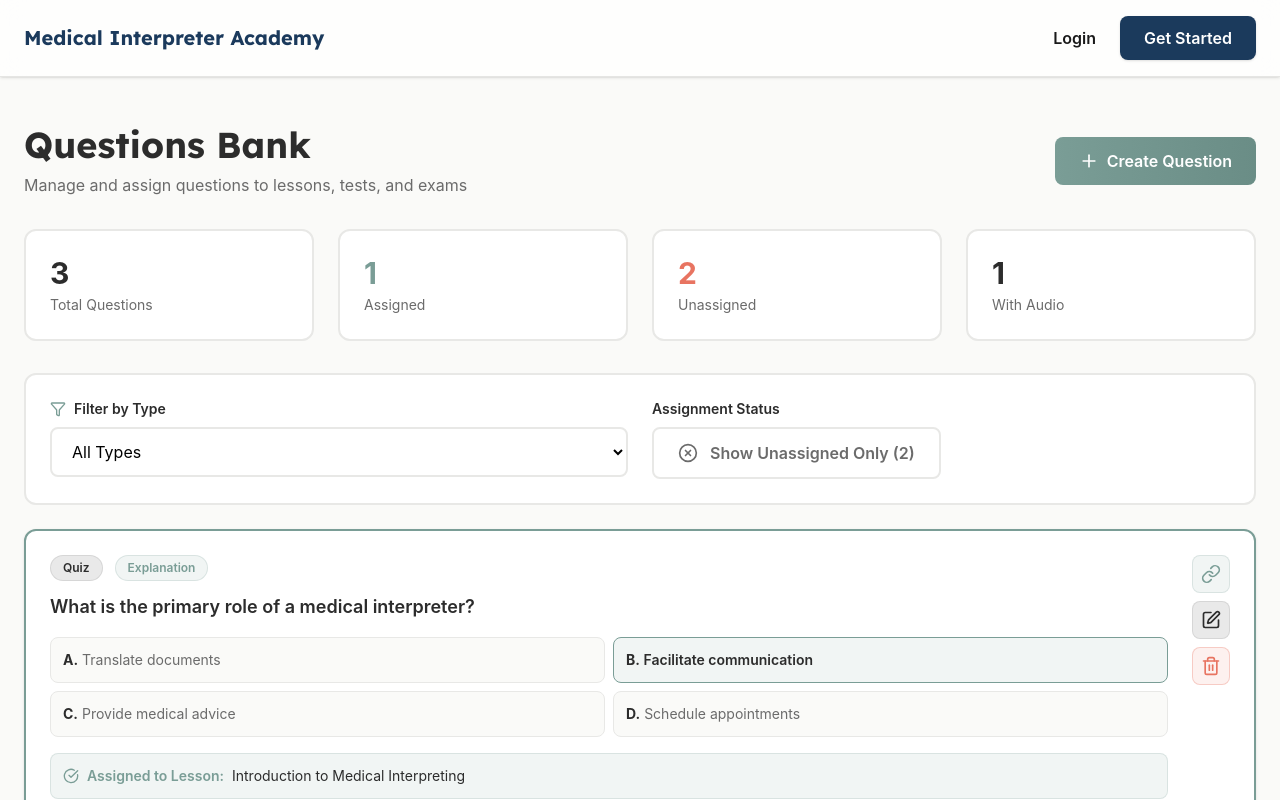
Test: AdminQuestions Page › Assign Question › should open assign modal
Expected: the text "What is the primary role of a medical interpreter?" is shown, [50,596,475,617]
What coordinates should you click on to do the following:
click the button titled "assign question"
I would click on:
 (1211, 574)
Its box is [1192,555,1230,593].
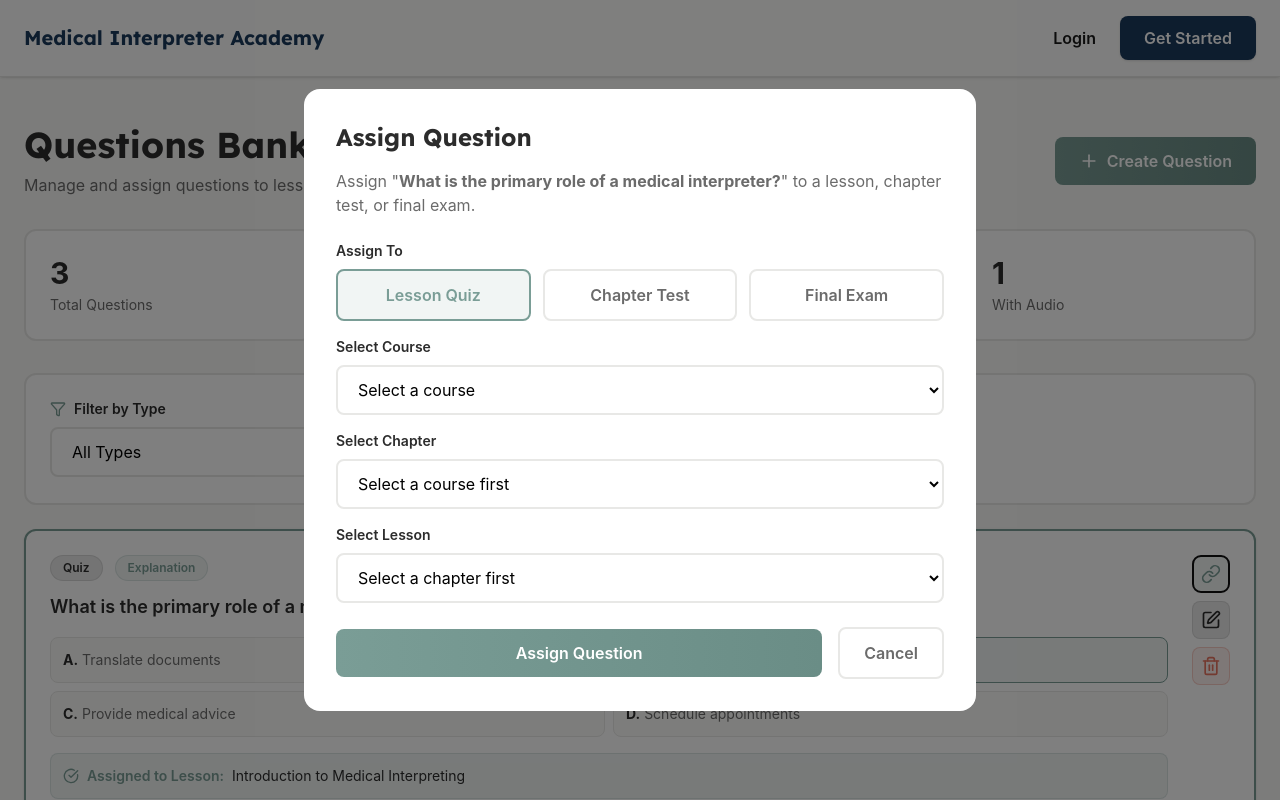
Expected: the heading "Assign Question" is shown, [336,122,532,152]
